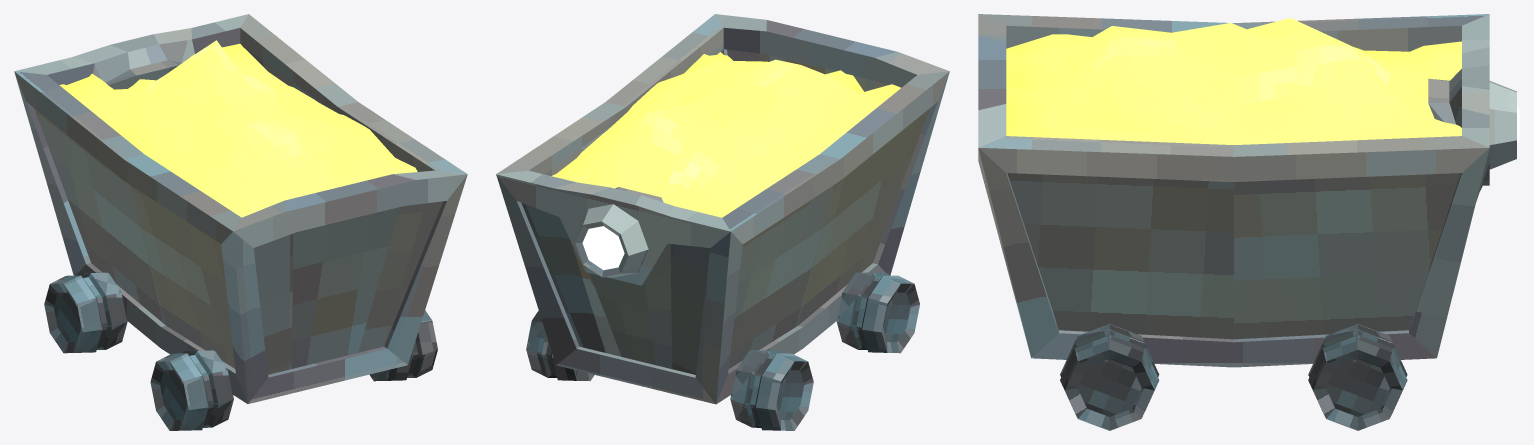
Rendered from GoldTrolley.gltf.
3 renders of one model, left to right at view 1: azimuth 30°, elevation 25°; view 2: azimuth 150°, elevation 25°; view 3: azimuth 270°, elevation 25°, orthographic. The views are drawn at different scales.
Visible parts, largest first — view 1: Trolley, 立方体, 円柱.002, 円柱.001; view 2: Trolley, 立方体, 円柱.001, 円柱.002; view 3: Trolley, 立方体, 円柱.002, 円柱.001.
Part boxes in pixels (x1,y1,x2,y2): Trolley: (14, 14, 467, 403); 立方体: (59, 40, 417, 217); 円柱.002: (150, 310, 437, 430); 円柱.001: (44, 272, 127, 353); Trolley: (496, 14, 949, 404); 立方体: (551, 52, 900, 217); 円柱.001: (526, 310, 813, 430); 円柱.002: (836, 272, 919, 353); Trolley: (978, 14, 1519, 367); 立方体: (1006, 18, 1461, 144); 円柱.002: (1060, 324, 1159, 430); 円柱.001: (1308, 324, 1407, 430).
Size of the model in its own units: 3.63 by 3.93 by 5.84.
3 materials, 3 textured.
